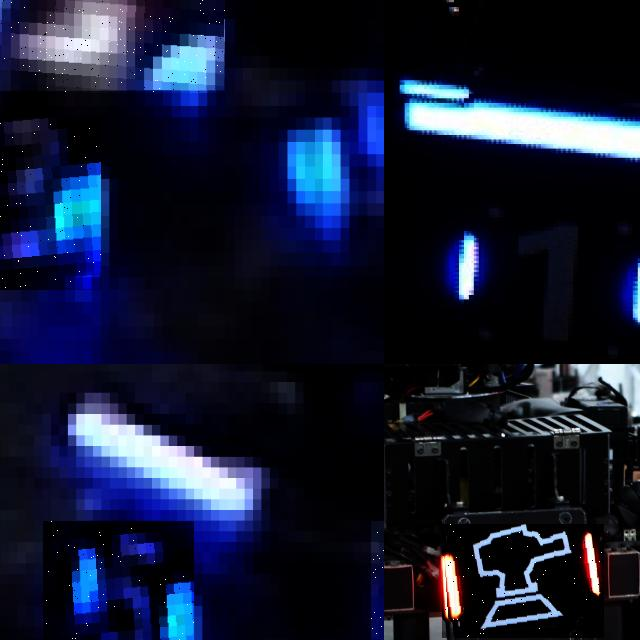B3: (0, 0, 225, 92), (0, 117, 101, 289)
B5: (42, 520, 194, 640)
Rs: (442, 524, 604, 638)
